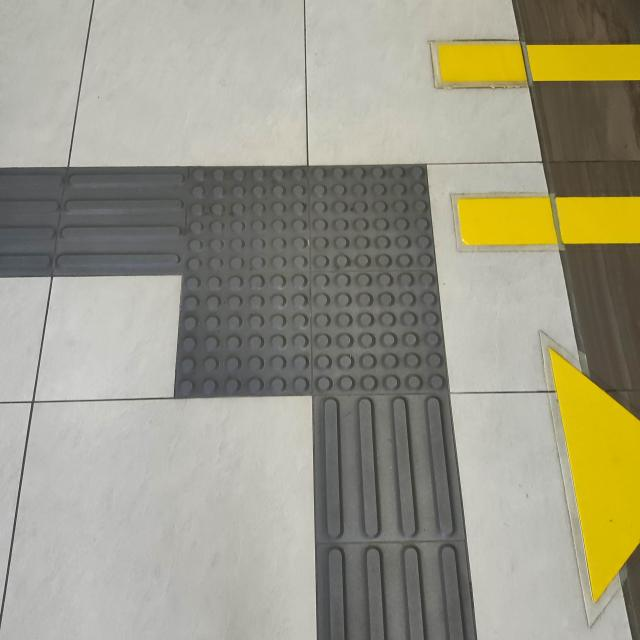kiri: (0, 104, 514, 490)
